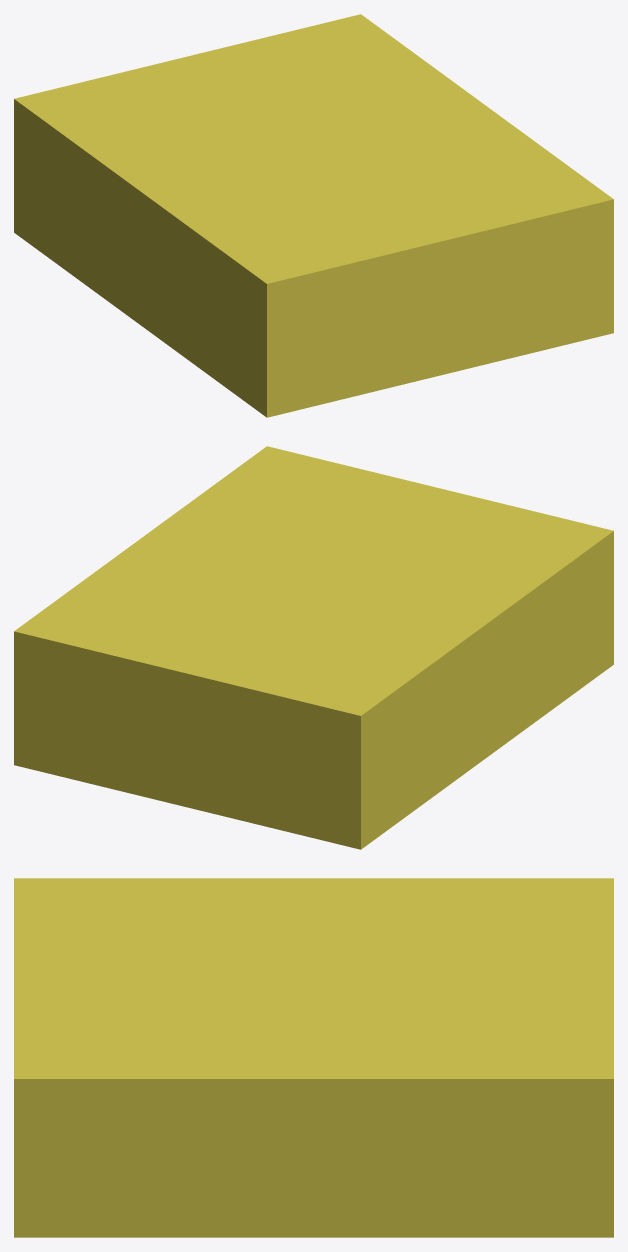
The model's file is Generic 4RU Device - Planned.glb.
The picture shows the model from 3 angles, top to bottom: view 1: azimuth 30°, elevation 25°; view 2: azimuth 150°, elevation 25°; view 3: azimuth 270°, elevation 25°; orthographic projection. The views are drawn at different scales.
Parts seen in each view (by area): view 1: Mesh_Mesh_head_geo.001_lambert2SG.001; view 2: Mesh_Mesh_head_geo.001_lambert2SG.001; view 3: Mesh_Mesh_head_geo.001_lambert2SG.001.
Boxes of the visible parts, box(x1,y1,x2,y2) form: Mesh_Mesh_head_geo.001_lambert2SG.001: box(14, 14, 613, 417); Mesh_Mesh_head_geo.001_lambert2SG.001: box(14, 446, 613, 849); Mesh_Mesh_head_geo.001_lambert2SG.001: box(14, 878, 613, 1237).
Bounding box in the file's own units: 483 × 178 × 610.
